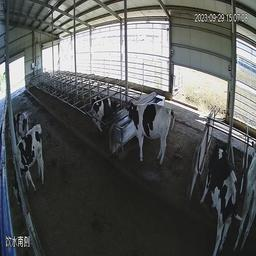cow: (199, 124, 238, 256), (119, 92, 181, 172), (9, 124, 59, 207), (230, 104, 255, 254), (86, 88, 113, 134), (2, 110, 33, 139)
